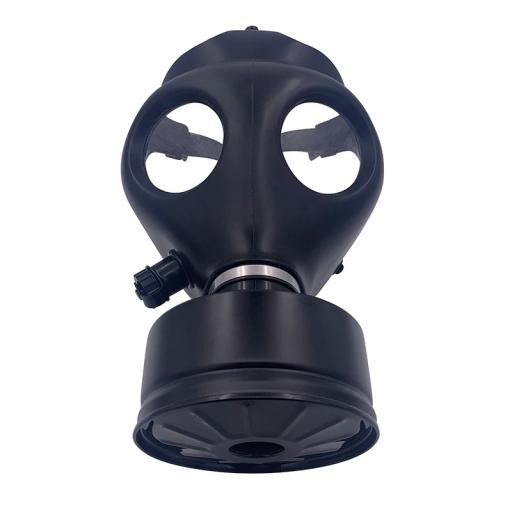mask: (106, 21, 399, 485)
